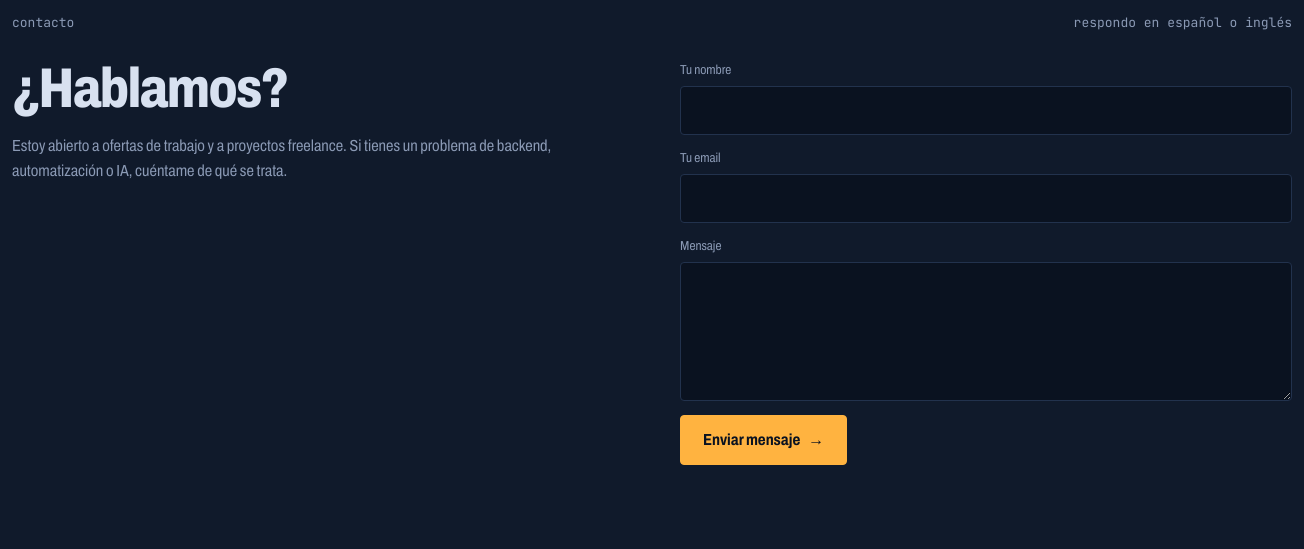
Contact › shows an alert and keeps the data on HTTP 500
Type "Ana" into the field labelled "Tu nombre" at (986, 110), box [680,86,1292,134]
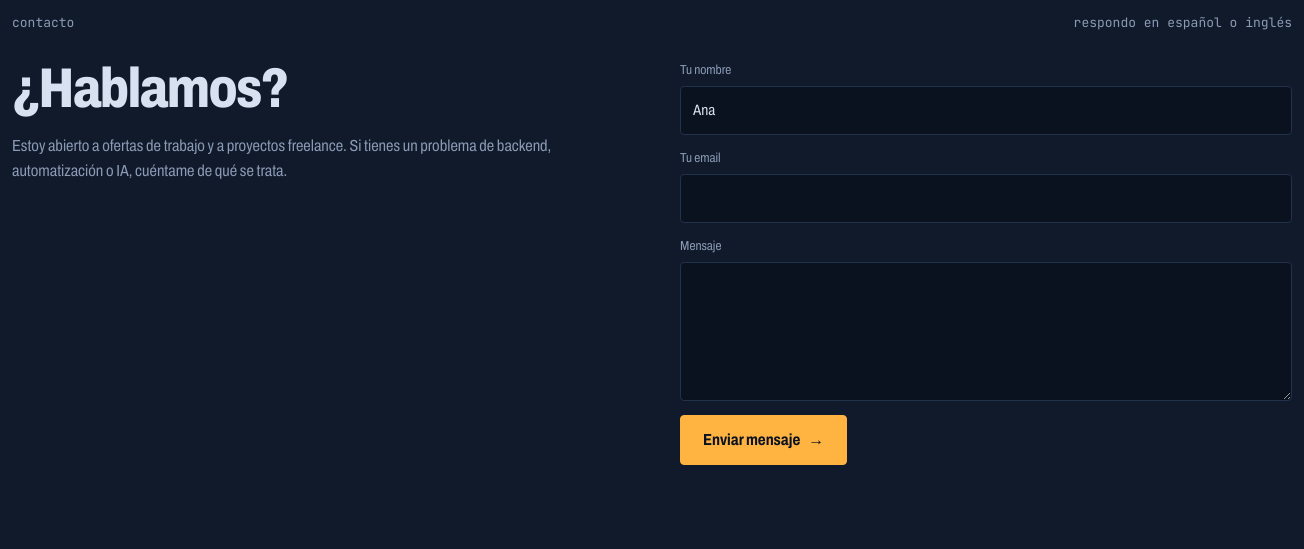
Type "ana@example.com" into the field labelled "Tu email" at (986, 198), box [680,174,1292,222]
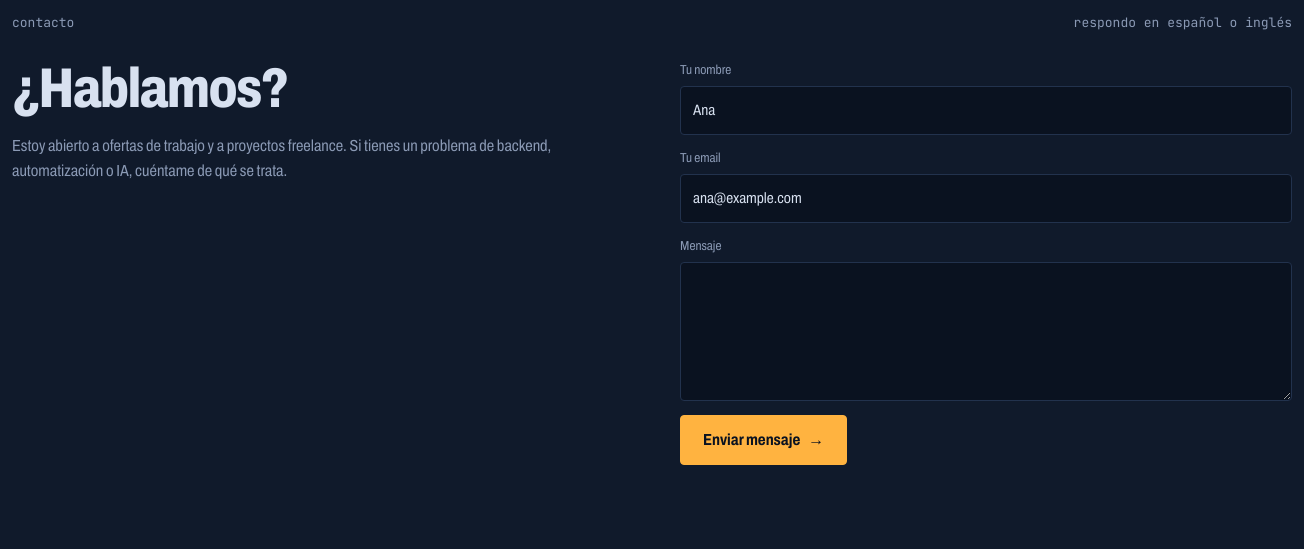
Type "Hola" into the text box labelled "Mensaje" at (986, 331), box [680,262,1292,400]
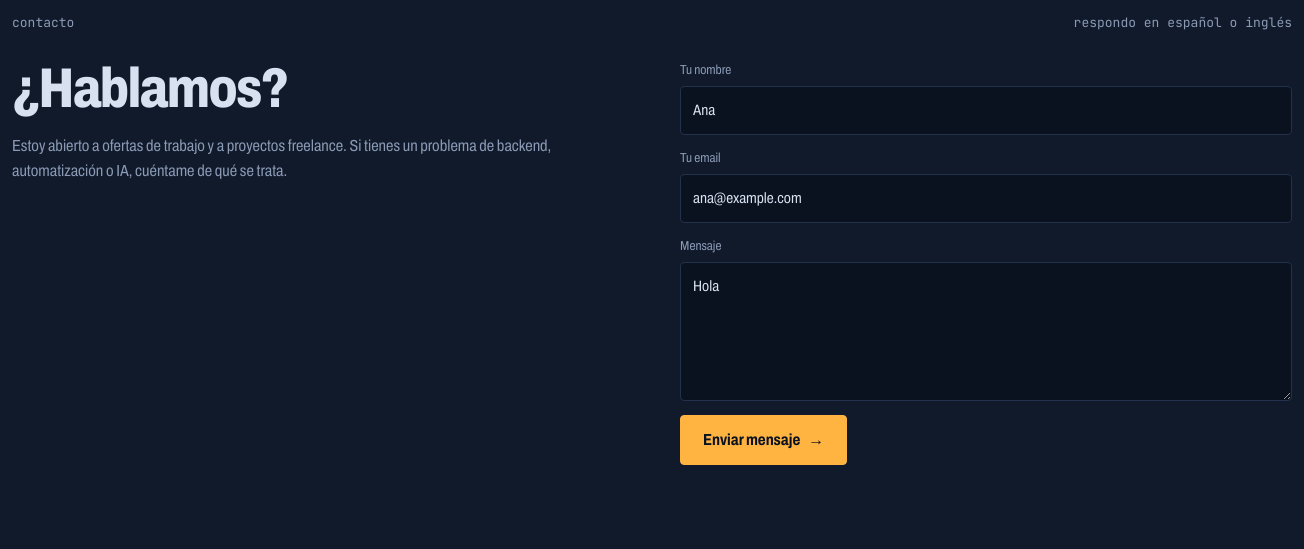
Click the button "Enviar mensaje →" at (764, 440), box [680,414,847,464]
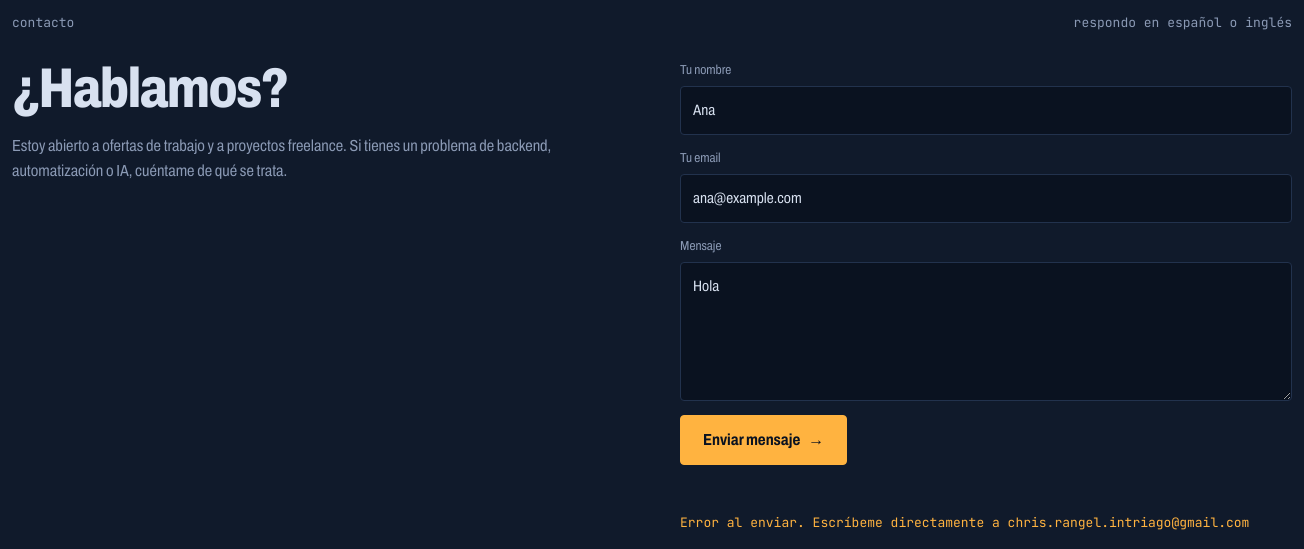
Now the message "Error al enviar. Escríbeme directamente a chris.rangel.intriago@gmail.com" is shown, box [680,512,1292,532]
